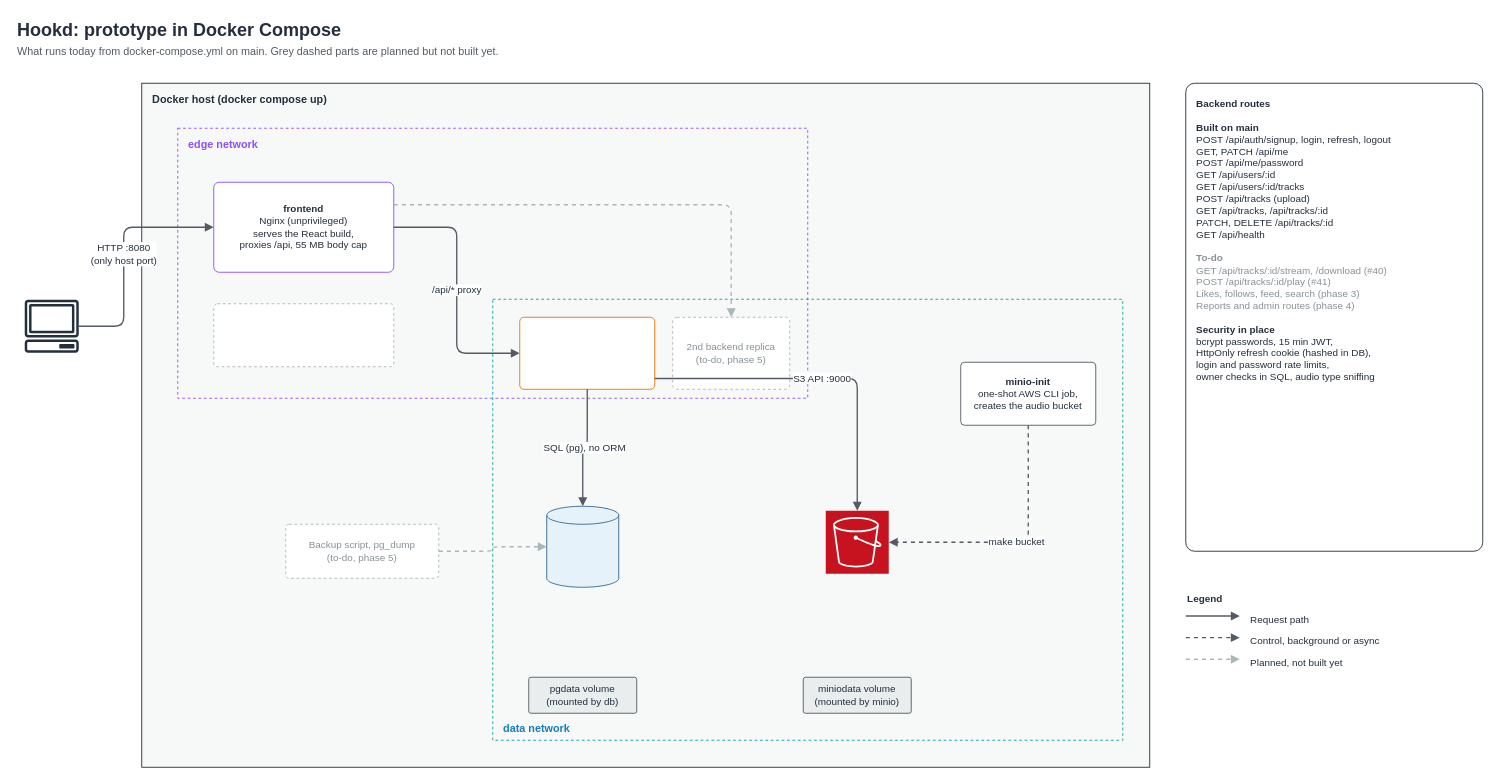
The diagram is 1499 pixels wide and 783 high, and some of its shapes have lost their labels. Each missing label, with the centre of its shape:
"backend Fastify + TypeScript health check: /api/health" belongs at point (587, 352).
"db Postgres 16 users, tracks, refresh tokens" belongs at point (582, 546).
"minio S3-compatible storage private audio bucket, no host port" belongs at point (857, 542).
"React pages (to-do) auth, profile, tracks, player #19, #20, #25, #26, #42 to #46" belongs at point (303, 335).
"Web browser" belongs at point (51, 326).
